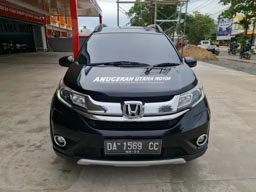plat: (105, 139, 162, 149)
